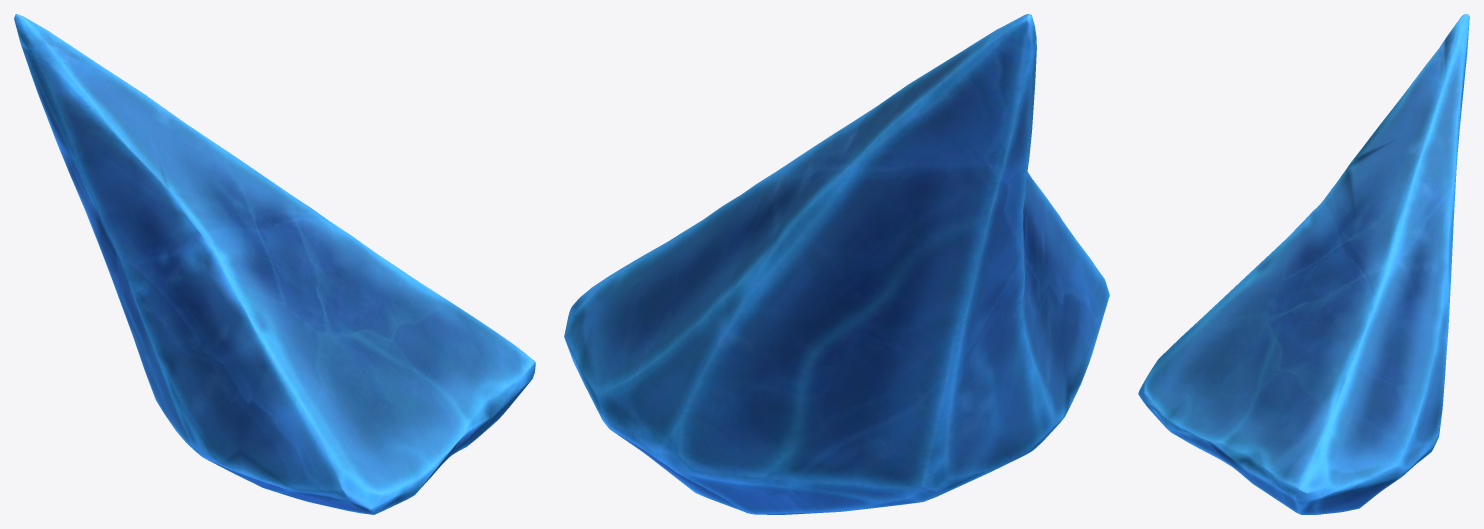
Rendered from glacia_shard_small_c_lite.glb.
The picture shows the model from 3 angles, left to right: view 1: azimuth 30°, elevation 25°; view 2: azimuth 150°, elevation 25°; view 3: azimuth 270°, elevation 25°; orthographic projection. The views are drawn at different scales.
Parts seen in each view (by area): view 1: SM_GLCA_DRS_IceSplinter_03C; view 2: SM_GLCA_DRS_IceSplinter_03C; view 3: SM_GLCA_DRS_IceSplinter_03C.
Part boxes in pixels (left/top/right/bottom): SM_GLCA_DRS_IceSplinter_03C: left=14, top=14, right=535, bottom=514; SM_GLCA_DRS_IceSplinter_03C: left=564, top=14, right=1109, bottom=514; SM_GLCA_DRS_IceSplinter_03C: left=1138, top=14, right=1469, bottom=514.
Size of the model in its own units: 3.99 by 4.13 by 3.31.
Materials: 1 (1 with a texture image).
